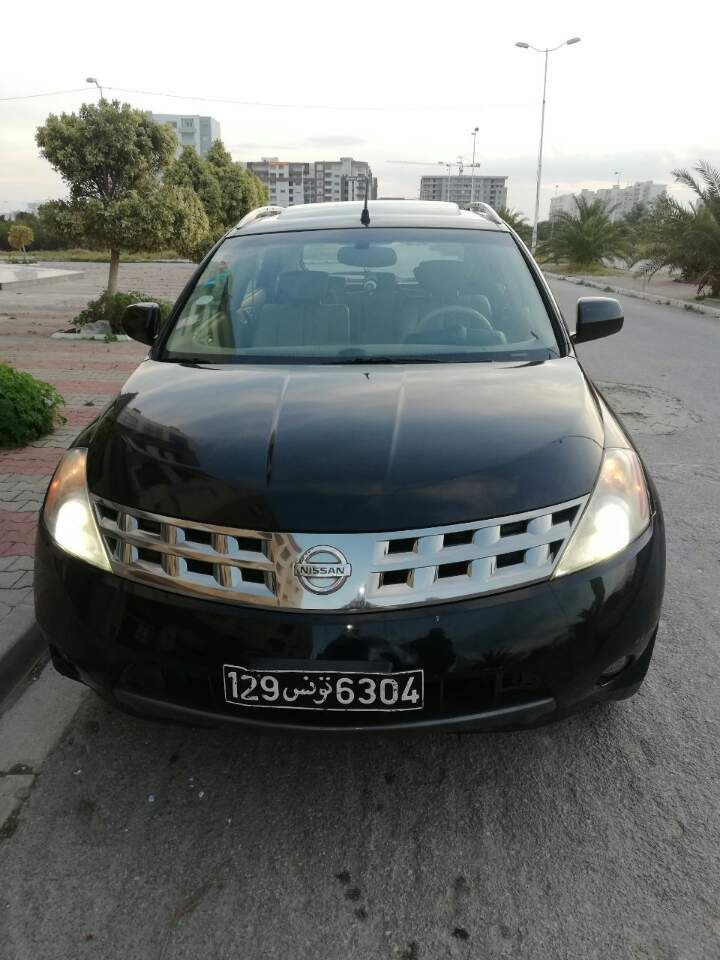LP: (220, 663, 427, 714)
